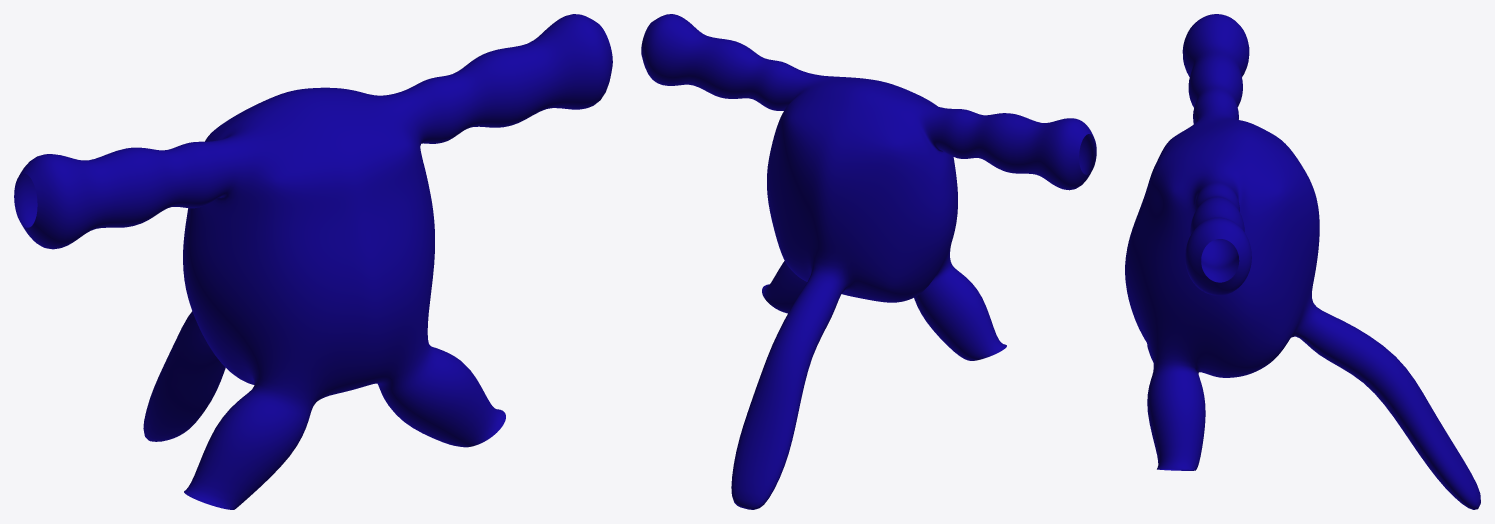
File: zone4-singe-blue.gltf
3 renders of one model, left to right at view 1: azimuth 30°, elevation 25°; view 2: azimuth 150°, elevation 25°; view 3: azimuth 270°, elevation 25°, orthographic. The views are drawn at different scales.
Visible parts, largest first — view 1: Roundcube.028; view 2: Roundcube.028; view 3: Roundcube.028.
Boxes of the visible parts, box(x1,y1,x2,y2) form: Roundcube.028: box(14, 14, 612, 509); Roundcube.028: box(641, 14, 1096, 509); Roundcube.028: box(1125, 14, 1480, 509).
Size of the model in its own units: 4.29 by 3.34 by 2.76.
